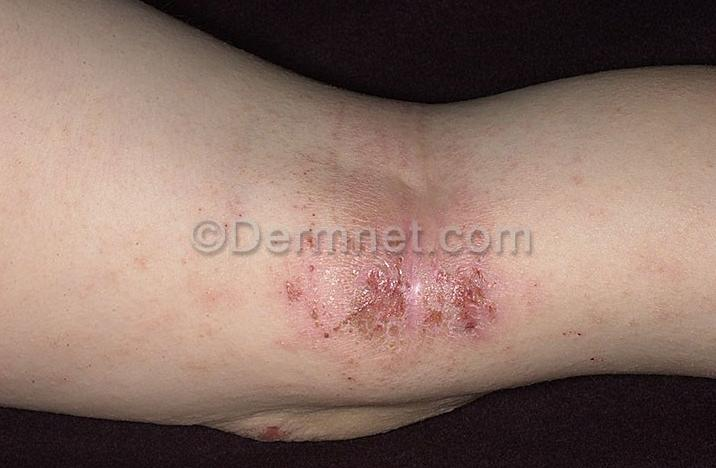eritema 1: (280, 114, 506, 342)
excoriacion 3: (280, 236, 499, 349)
exudacion 3: (280, 234, 513, 348)
xerosis 1: (303, 87, 505, 351)
